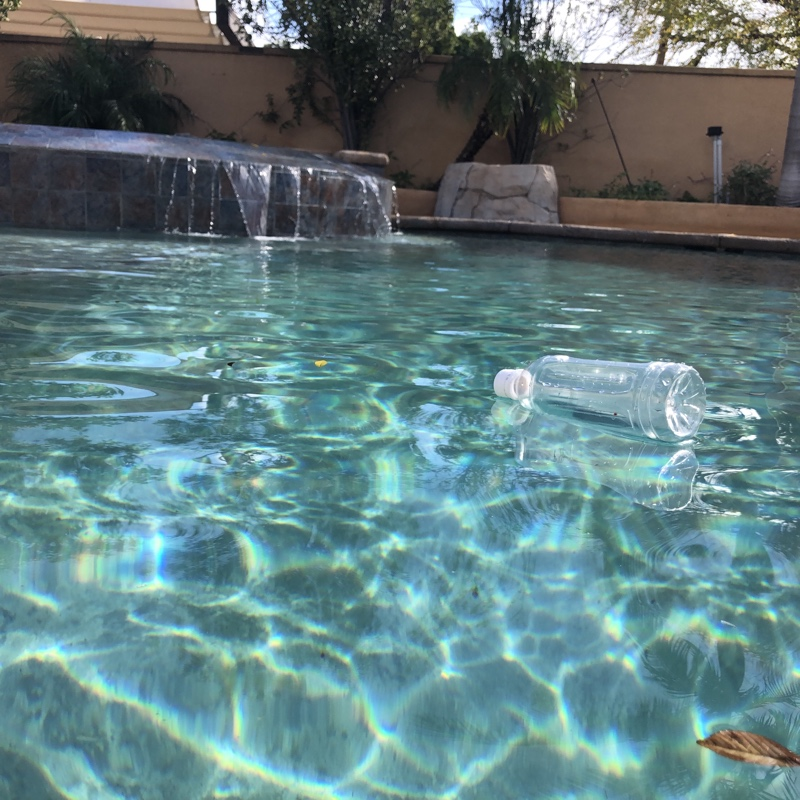Plastic Bottle: (490, 351, 710, 448)
